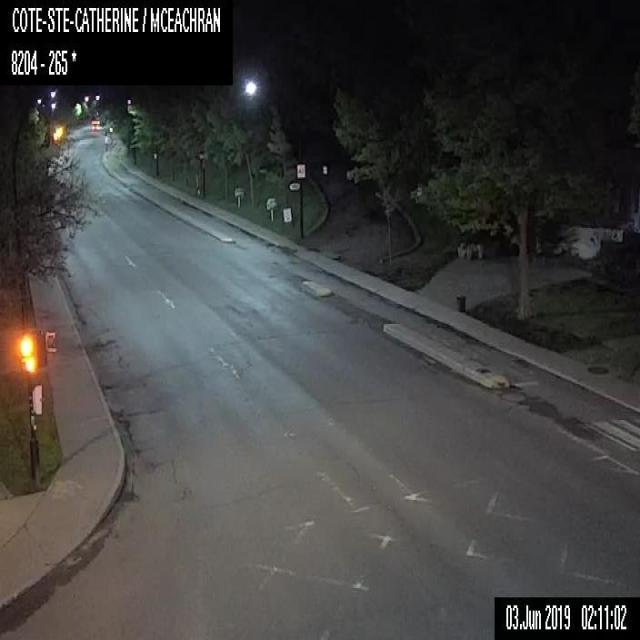vehicle: (91, 122, 98, 130)
